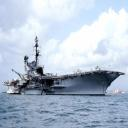Portanaves: (9, 35, 127, 98)
